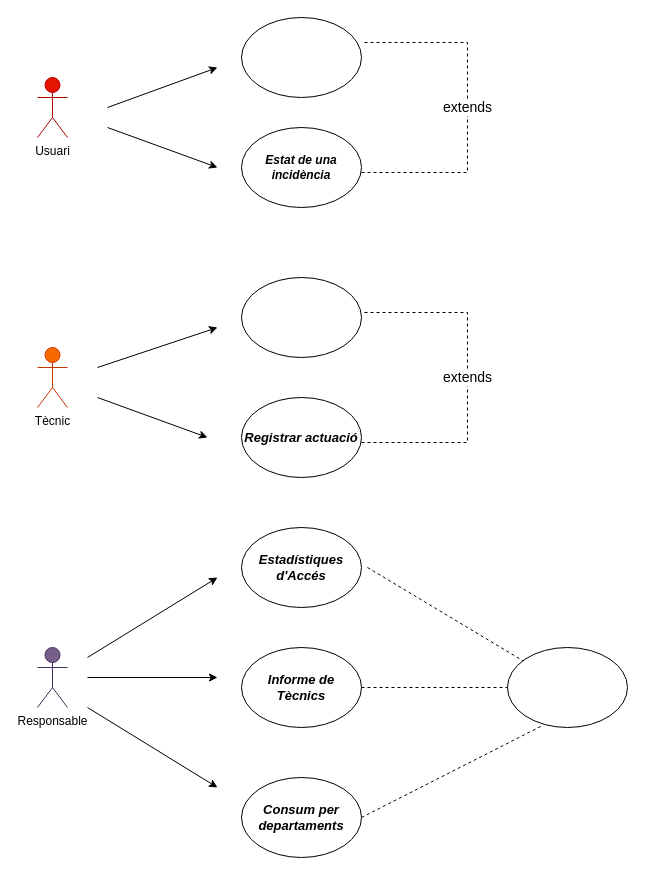
Some shapes in this 645 by 875 pixel diagram are drawn without their labels. The shapes that lost their labels are listed below. From the top down, each one's centre as x and y in pixels, then its label:
point 301,57: Registrar nova incidència
point 301,317: Modificar incidència
point 567,687: Generar informe
